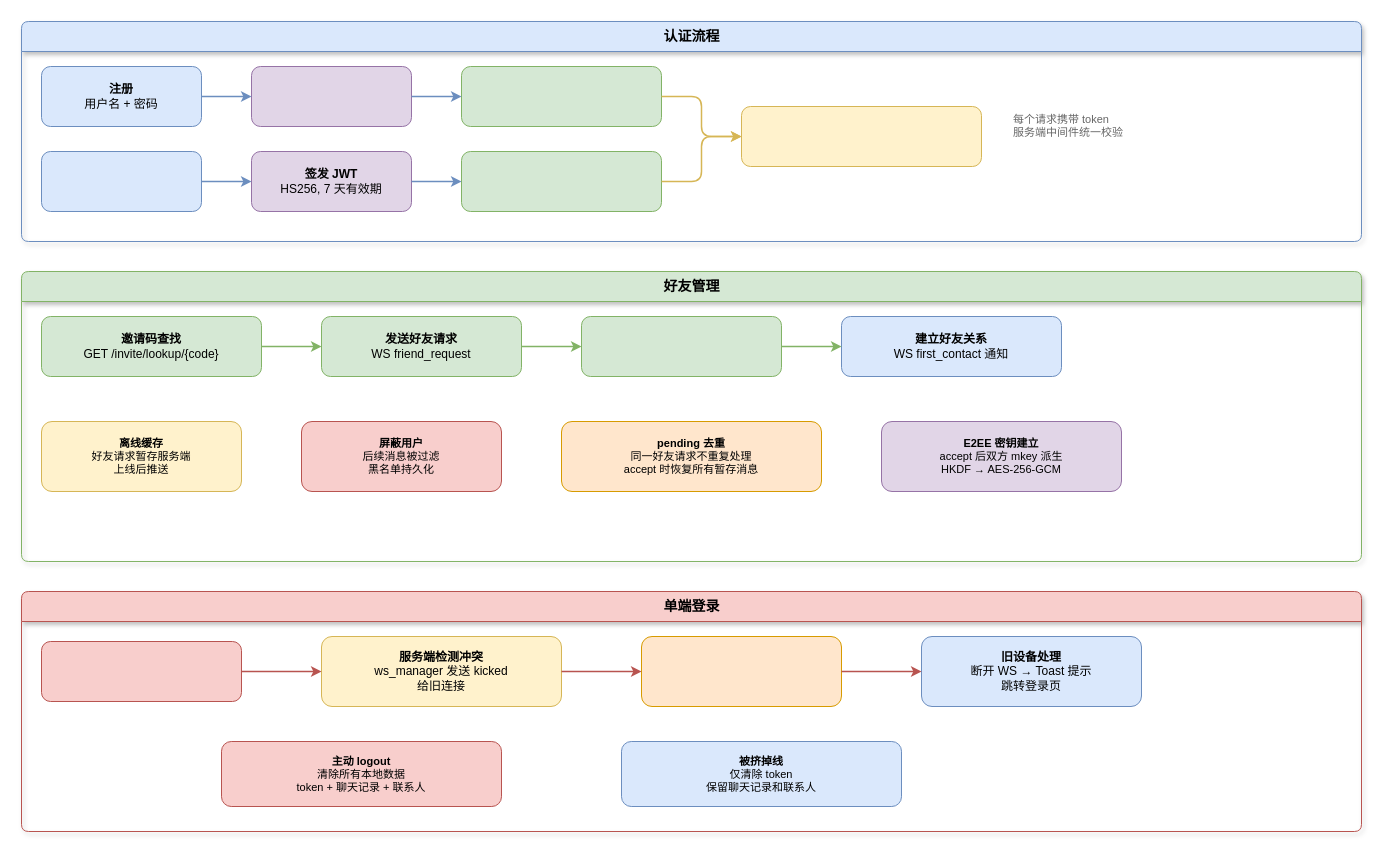
This 1385x856 diagram has some shape labels left out. Here are the shapes that lost their labels. From the top down, the centre of each, then its label:
At point 331,96: "PBKDF2 100K 次迭代哈希".
At point 561,96: "存储 users 表 + 自动生成邀请码".
At point 861,136: "鉴权 Bearer token → /auth/me 验证".
At point 121,181: "登录 验证密码哈希".
At point 561,181: "返回 token 客户端本地存储".
At point 681,346: "接受 / 拒绝 WS accept / reject".
At point 141,671: "新设备登录 同一账号发起连接".
At point 741,671: "5s 延迟 后台强制关闭旧连接".
